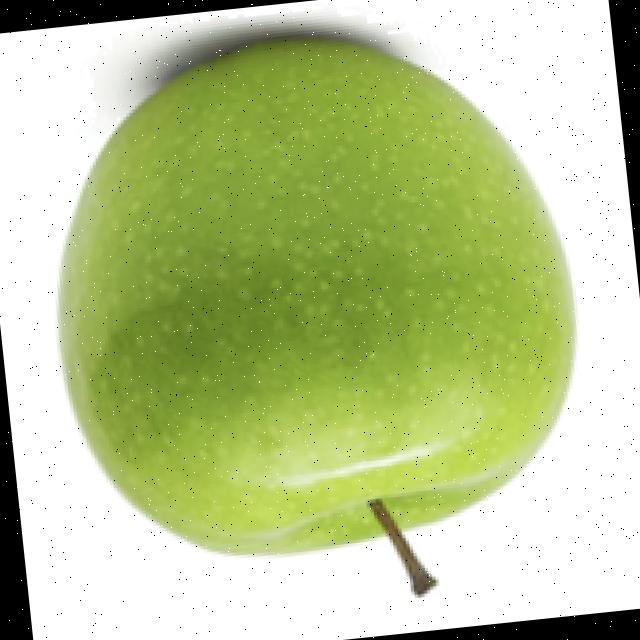apple: (53, 3, 581, 603)
